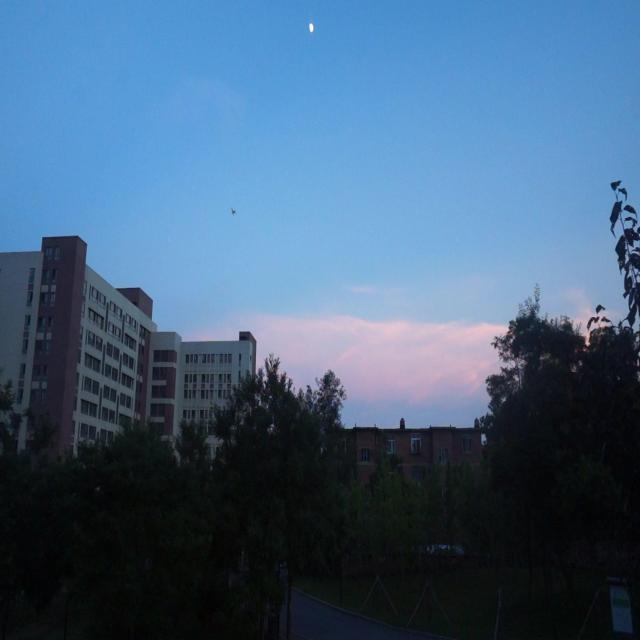drone: (226, 202, 242, 221)
